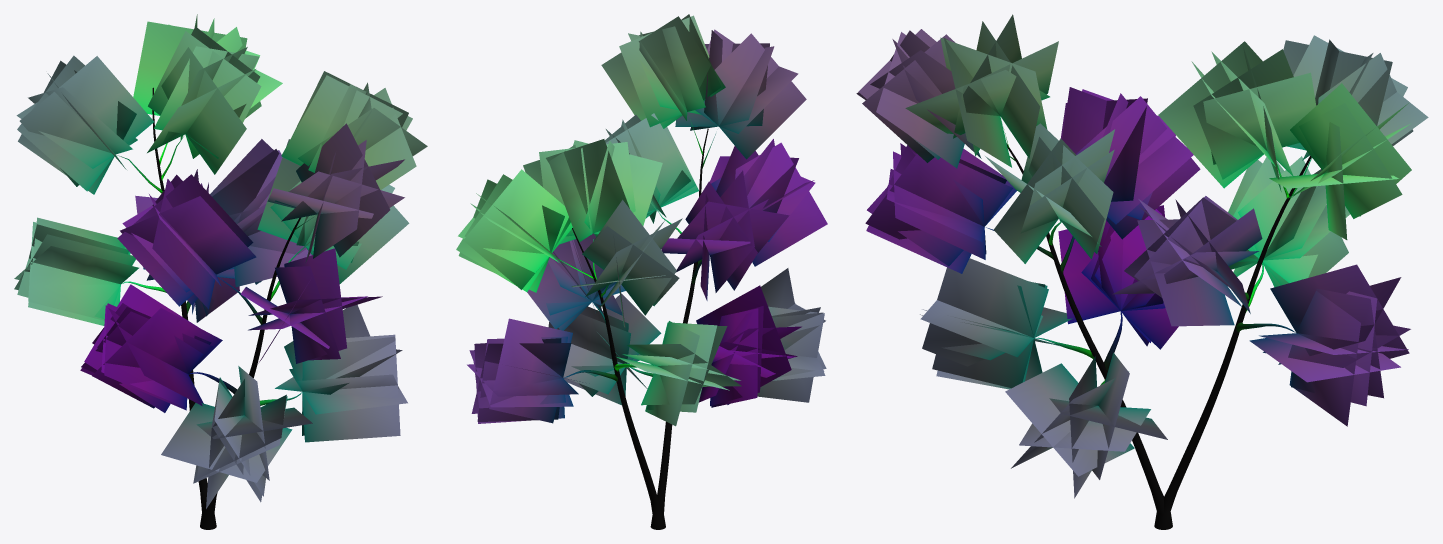
Rendered from URP_P6_Tree_5_LOD_0.fbx.
The picture shows the model from 3 angles, left to right: view 1: azimuth 30°, elevation 25°; view 2: azimuth 150°, elevation 25°; view 3: azimuth 270°, elevation 25°; orthographic projection. The views are drawn at different scales.
Visible parts, largest first — view 1: Tree_5_LOD_0; view 2: Tree_5_LOD_0; view 3: Tree_5_LOD_0.
Boxes of the visible parts, x1,y1,x2,y2 form: Tree_5_LOD_0: [14, 14, 427, 529]; Tree_5_LOD_0: [456, 14, 827, 529]; Tree_5_LOD_0: [856, 14, 1428, 529].
Size of the model in its own units: 529 by 846 by 814.
